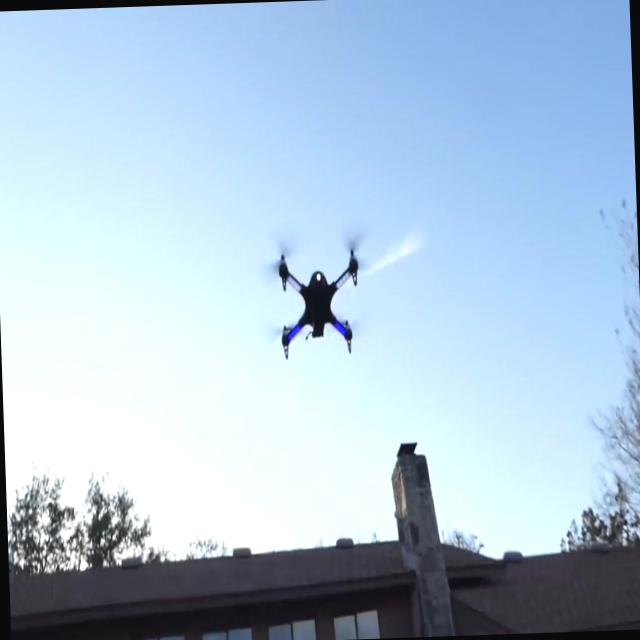drone: (273, 242, 360, 362)
